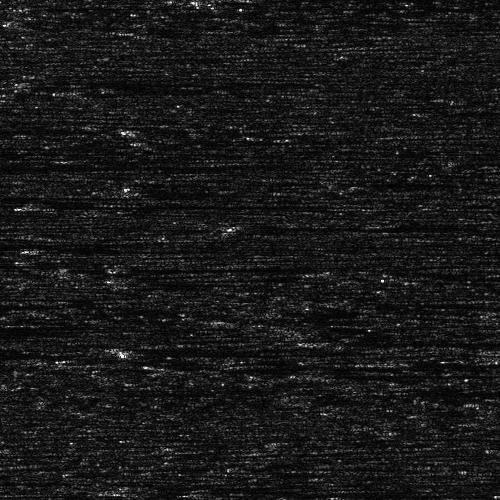object: (189, 221, 282, 230)
shadow: (236, 221, 404, 230)
